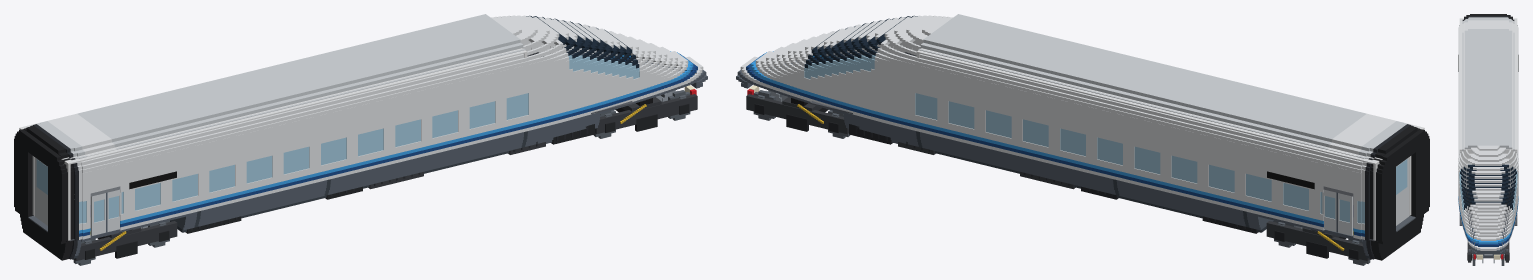
Rendered from avelia_front.obj.
3 renders of one model, left to right at view 1: azimuth 30°, elevation 25°; view 2: azimuth 150°, elevation 25°; view 3: azimuth 270°, elevation 25°, orthographic. The views are drawn at different scales.
Parts seen in each view (by area): view 1: SHELL, SHELL_diaphragm, SHELL_ceiling, BOGEY_FRONT, BOGEY_REAR, FRAME, CONNECTING_DOOR_1_CG_CR_TOGGLE_TL_0.98_Z, EXTERNAL_DOOR_3_CG_DR1_TOGGLE_TL_-0.44_X, EXTERNAL_DOOR_4_CG_DR1_TOGGLE_TL_0.44_X, SHELL_end; view 2: SHELL, SHELL_diaphragm, SHELL_ceiling, BOGEY_FRONT, BOGEY_REAR, FRAME, CONNECTING_DOOR_1_CG_CR_TOGGLE_TL_0.98_Z, EXTERNAL_DOOR_6_CG_DL1_TOGGLE_TL_-0.44_X, EXTERNAL_DOOR_7_CG_DL1_TOGGLE_TL_0.44_X, SHELL_end; view 3: SHELL, SHELL_ceiling, SHELL_cabwall, BOGEY_FRONT, SHELL_desk, SHELL_floor, BOGEY_FRONT_WHEEL_2, HEADLIGHT_1.
Boxes of the visible parts, box(x1,y1,x2,y2) form: SHELL: box(20, 14, 707, 260); SHELL_diaphragm: box(14, 129, 66, 244); SHELL_ceiling: box(21, 49, 524, 164); BOGEY_FRONT: box(595, 94, 697, 134); BOGEY_REAR: box(74, 221, 177, 260); FRAME: box(185, 124, 594, 233); CONNECTING_DOOR_1_CG_CR_TOGGLE_TL_0.98_Z: box(35, 157, 47, 225); EXTERNAL_DOOR_3_CG_DR1_TOGGLE_TL_-0.44_X: box(91, 193, 107, 235); EXTERNAL_DOOR_4_CG_DR1_TOGGLE_TL_0.44_X: box(107, 189, 121, 231); SHELL_end: box(19, 127, 70, 240); SHELL: box(736, 14, 1423, 260); SHELL_diaphragm: box(1377, 129, 1429, 244); SHELL_ceiling: box(919, 49, 1422, 164); BOGEY_FRONT: box(746, 94, 848, 134); BOGEY_REAR: box(1266, 221, 1369, 260); FRAME: box(849, 124, 1258, 233); CONNECTING_DOOR_1_CG_CR_TOGGLE_TL_0.98_Z: box(1396, 157, 1408, 225); EXTERNAL_DOOR_6_CG_DL1_TOGGLE_TL_-0.44_X: box(1336, 193, 1352, 235); EXTERNAL_DOOR_7_CG_DL1_TOGGLE_TL_0.44_X: box(1322, 189, 1336, 231); SHELL_end: box(1373, 127, 1424, 240); SHELL: box(1458, 14, 1518, 254); SHELL_ceiling: box(1459, 19, 1517, 148); SHELL_cabwall: box(1459, 149, 1517, 188); BOGEY_FRONT: box(1467, 242, 1509, 262); SHELL_desk: box(1463, 188, 1513, 211); SHELL_floor: box(1459, 212, 1517, 225); BOGEY_FRONT_WHEEL_2: box(1472, 254, 1504, 265); HEADLIGHT_1: box(1476, 254, 1500, 259).
Bounding box in the file's own units: 22.16 × 3.95 × 3.02.
1 material, 1 textured.
